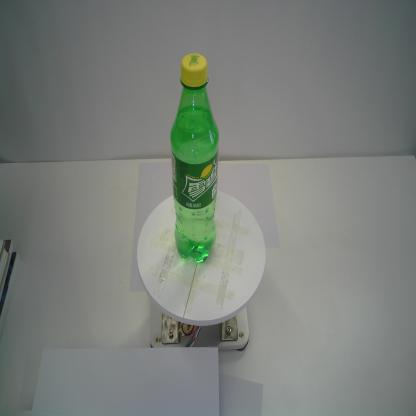Drink: (167, 51, 223, 267)
